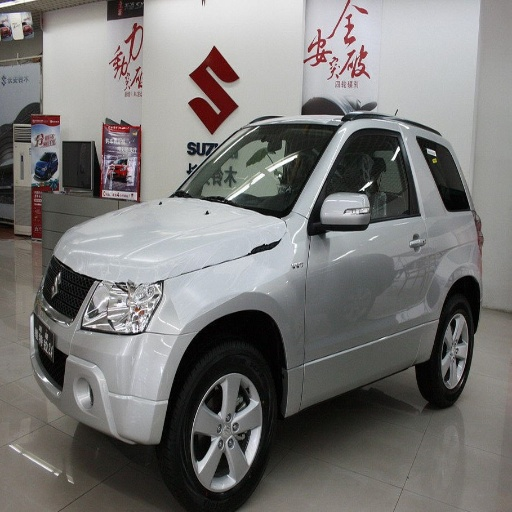front_bumper: (32, 261, 188, 443)
front_glass: (175, 124, 336, 216)
front_left_door: (302, 127, 422, 400)
